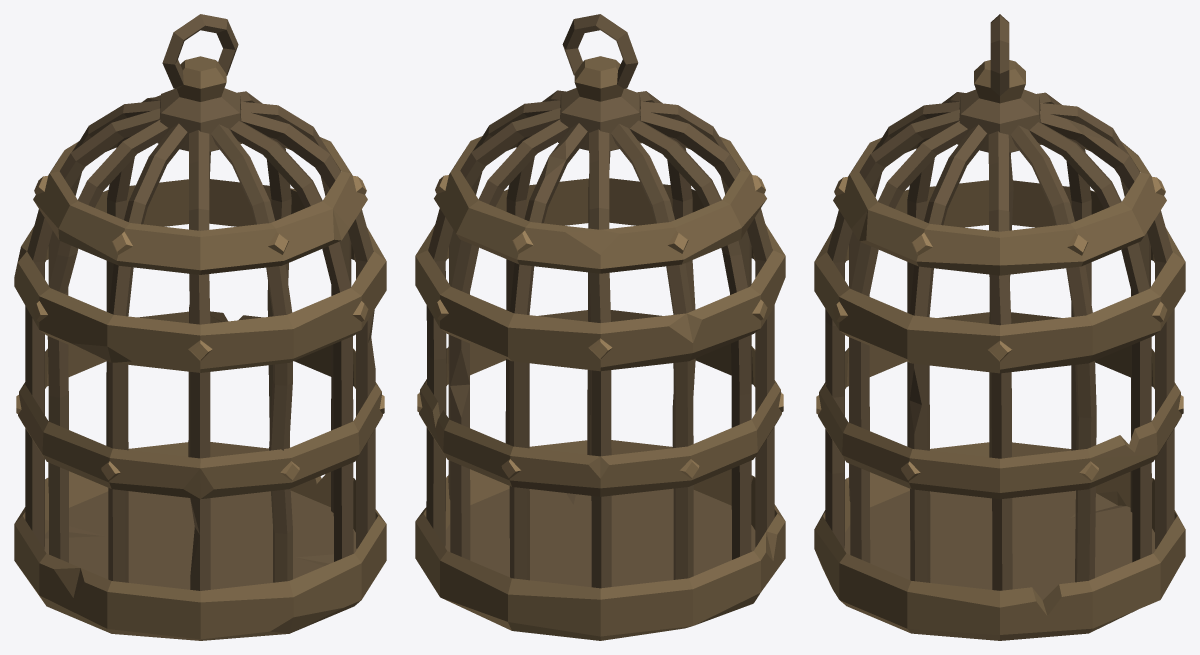
The model's file is SM_Prop_Cage_01.fbx.
3 views of the same model, side by side, from view 1: azimuth 30°, elevation 25°; view 2: azimuth 150°, elevation 25°; view 3: azimuth 270°, elevation 25° (orthographic).
Visible parts, largest first — view 1: SM_Prop_Cage_01; view 2: SM_Prop_Cage_01; view 3: SM_Prop_Cage_01.
Boxes of the visible parts, box(x1,y1,x2,y2) form: SM_Prop_Cage_01: box(14, 14, 386, 640); SM_Prop_Cage_01: box(415, 14, 785, 640); SM_Prop_Cage_01: box(814, 14, 1185, 640).
Bounding box in the file's own units: 55.13 × 89.13 × 54.17.
